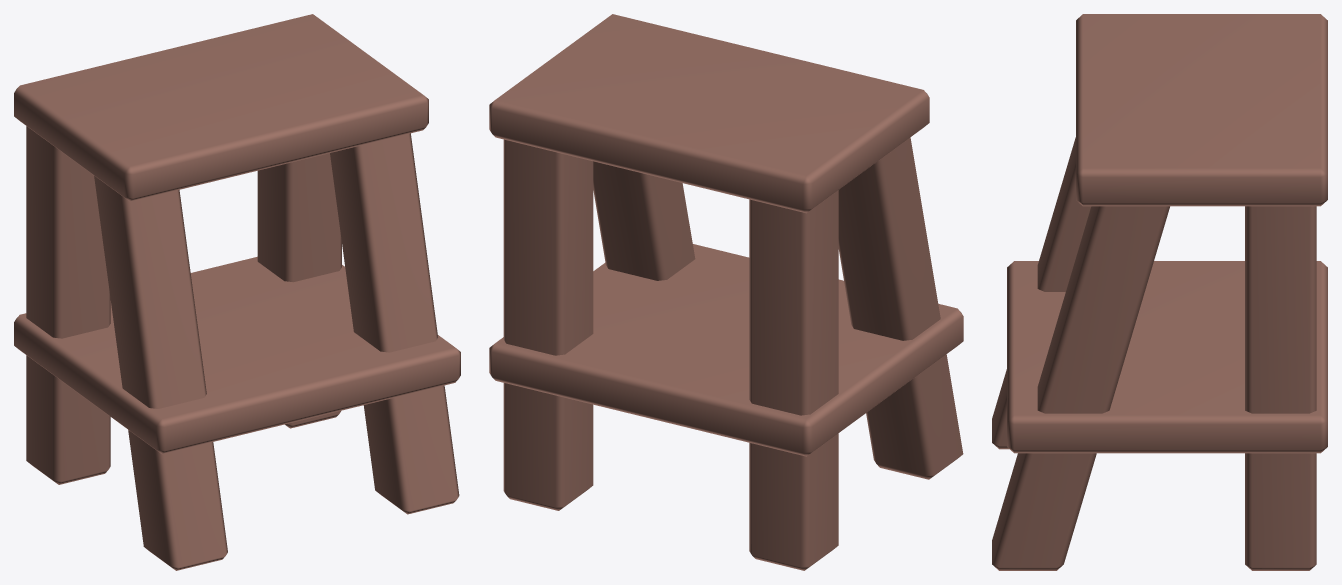
Rendered from Store_7_Shelf_2.glb.
3 renders of one model, left to right at view 1: azimuth 30°, elevation 25°; view 2: azimuth 150°, elevation 25°; view 3: azimuth 270°, elevation 25°, orthographic. The views are drawn at different scales.
Visible parts, largest first — view 1: Store_7_Shelf_2; view 2: Store_7_Shelf_2; view 3: Store_7_Shelf_2.
Boxes of the visible parts, x1,y1,x2,y2 form: Store_7_Shelf_2: (14, 14, 460, 570); Store_7_Shelf_2: (489, 14, 963, 570); Store_7_Shelf_2: (992, 14, 1327, 570).
Bounding box in the file's own units: 1.12 × 1.33 × 0.9909.
Materials: 1 (1 with a texture image).
